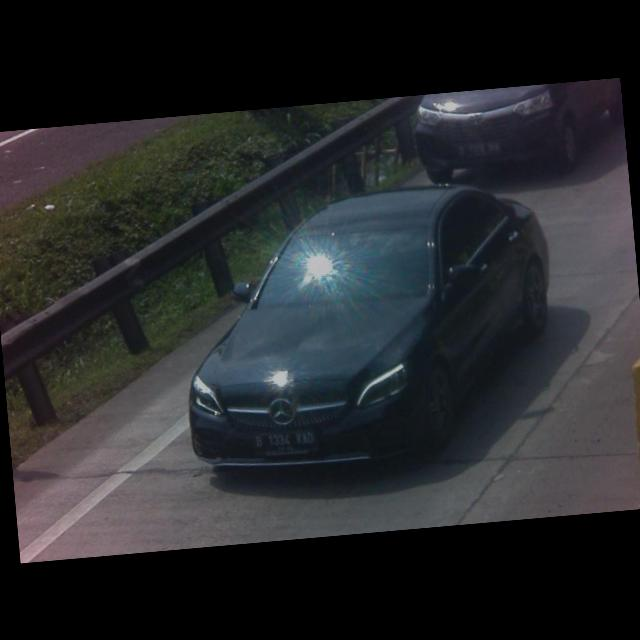plate: (252, 430, 318, 456)
